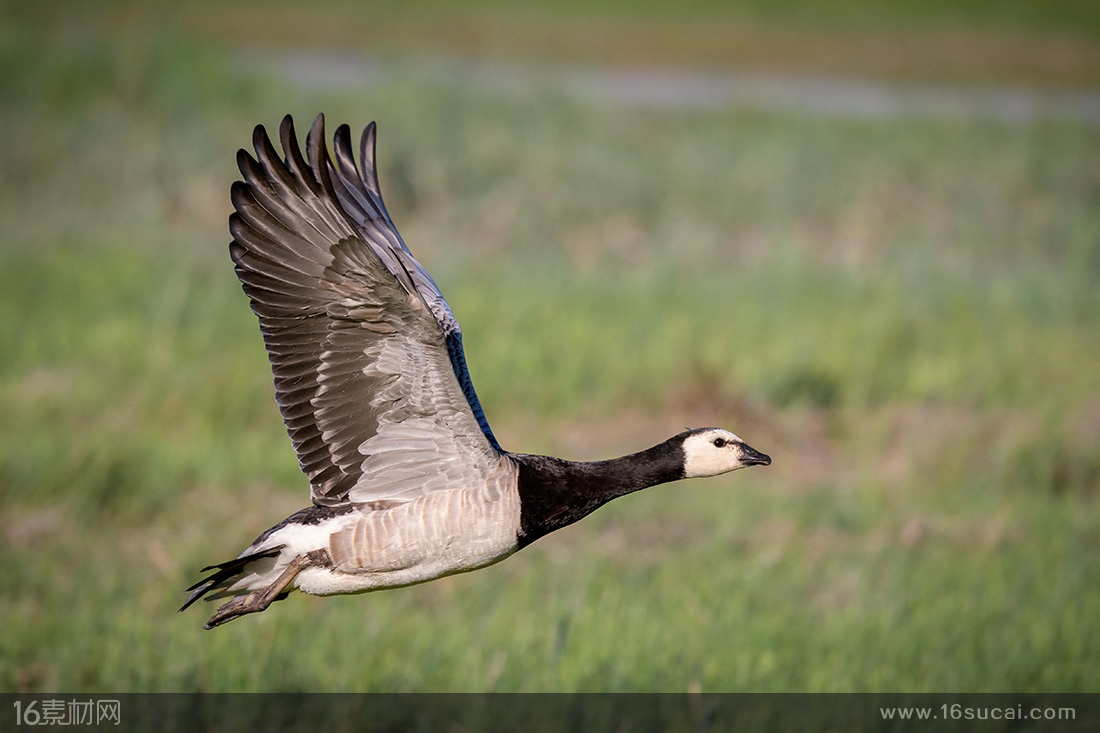bird: (171, 112, 772, 635)
